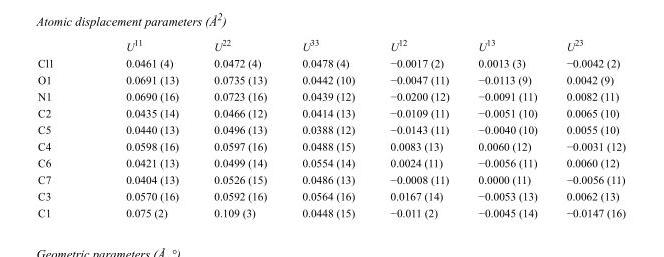table: (37, 37, 624, 218)
table column: (89, 37, 195, 218), (371, 37, 463, 218), (195, 37, 283, 218), (283, 37, 371, 218), (463, 37, 551, 218), (551, 37, 624, 218), (37, 37, 89, 218)
table column header: (37, 37, 624, 54)
table row: (37, 37, 624, 54), (37, 70, 624, 87), (37, 87, 624, 104), (37, 120, 624, 137), (37, 137, 624, 154), (37, 170, 624, 187), (37, 54, 624, 70), (37, 104, 624, 120), (37, 154, 624, 170), (37, 187, 624, 203), (37, 203, 624, 218)
